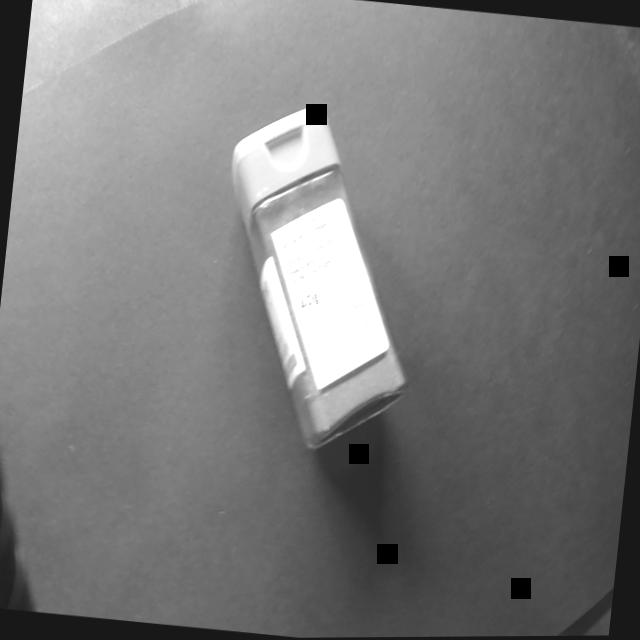Cinnamon: (148, 40, 488, 487)
